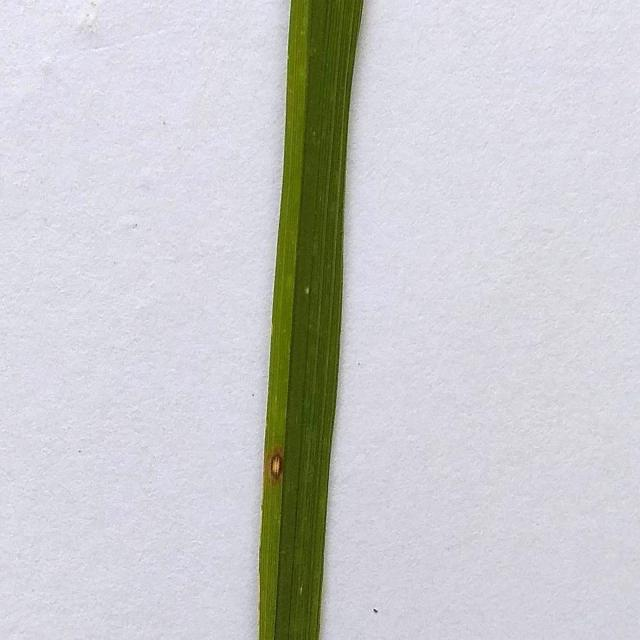Leaf blast: (258, 0, 363, 640)
